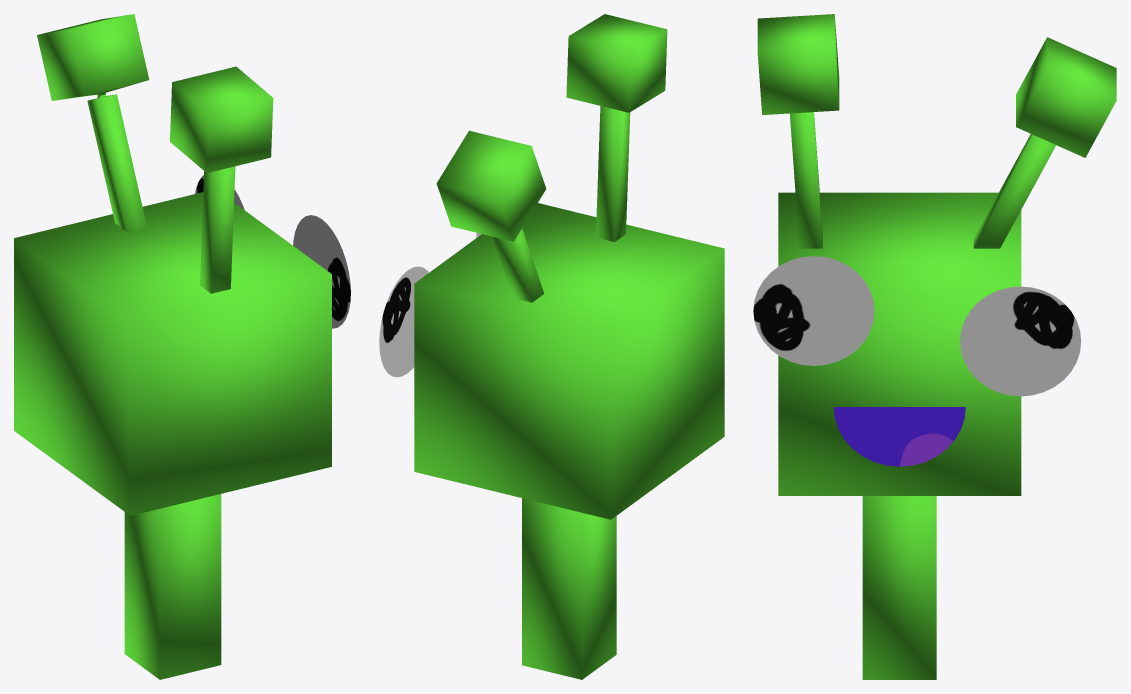
The model's file is alien.fbx.
The picture shows the model from 3 angles, left to right: view 1: azimuth 30°, elevation 25°; view 2: azimuth 150°, elevation 25°; view 3: azimuth 270°, elevation 25°; orthographic projection. The views are drawn at different scales.
Visible parts, largest first — view 1: Alien; view 2: Alien; view 3: Alien.
Boxes of the visible parts, <box> form: Alien: <box>14,14,350,679</box>; Alien: <box>379,14,724,679</box>; Alien: <box>753,14,1116,679</box>.
Bounding box in the file's own units: 710 × 1891 × 982.
Materials: 3 (2 with a texture image).
